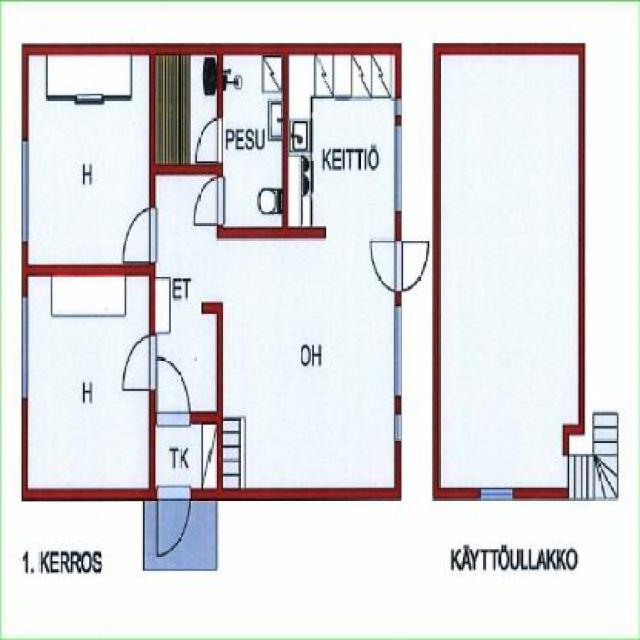door: (368, 243, 429, 297), (157, 485, 194, 560), (155, 355, 191, 428), (118, 337, 158, 395), (120, 209, 157, 266), (192, 180, 225, 226), (192, 115, 222, 163)
window: (20, 142, 29, 236), (22, 299, 29, 403), (395, 128, 403, 214), (477, 489, 514, 505), (394, 304, 400, 396), (392, 416, 403, 436), (394, 94, 400, 112)
zone: (442, 51, 576, 492), (217, 235, 394, 492), (28, 277, 149, 489), (29, 54, 148, 268), (290, 54, 398, 240), (156, 178, 218, 411), (223, 55, 282, 220), (155, 51, 217, 166), (144, 503, 213, 568), (157, 428, 215, 484)
